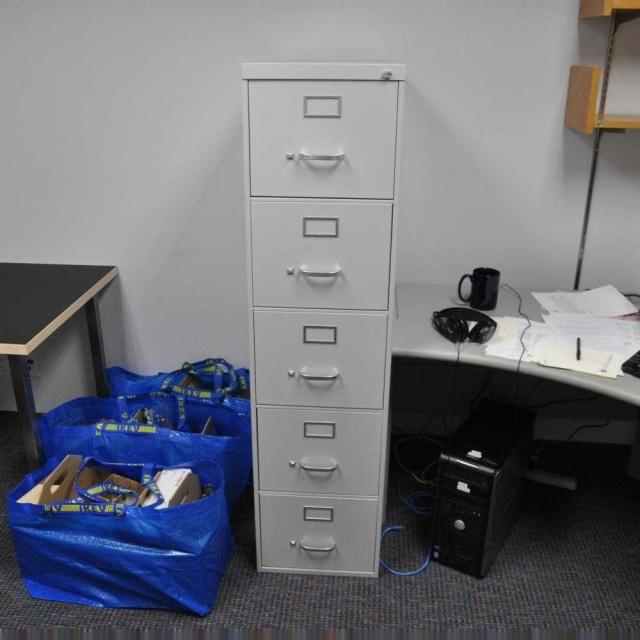Filing Cabinet: (241, 62, 406, 580)
Meja: (0, 262, 123, 373)
